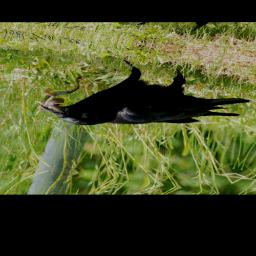Crow: (33, 49, 256, 147)
